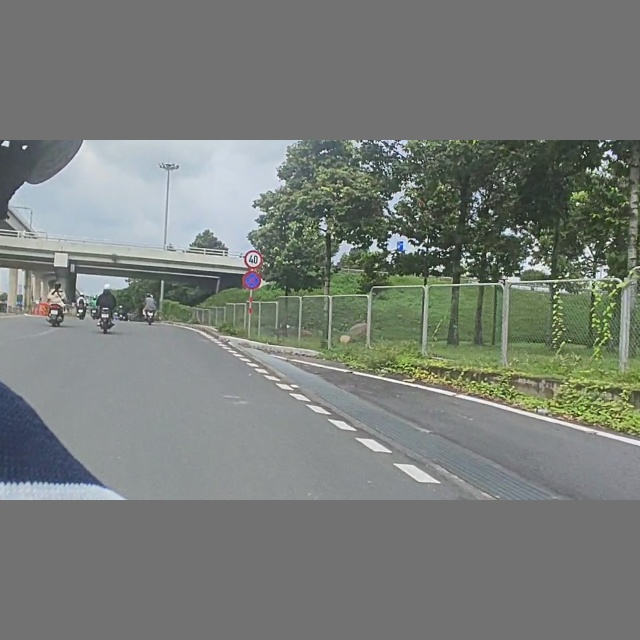P.127*40: (245, 250, 263, 269)
P.130: (242, 271, 261, 289)
